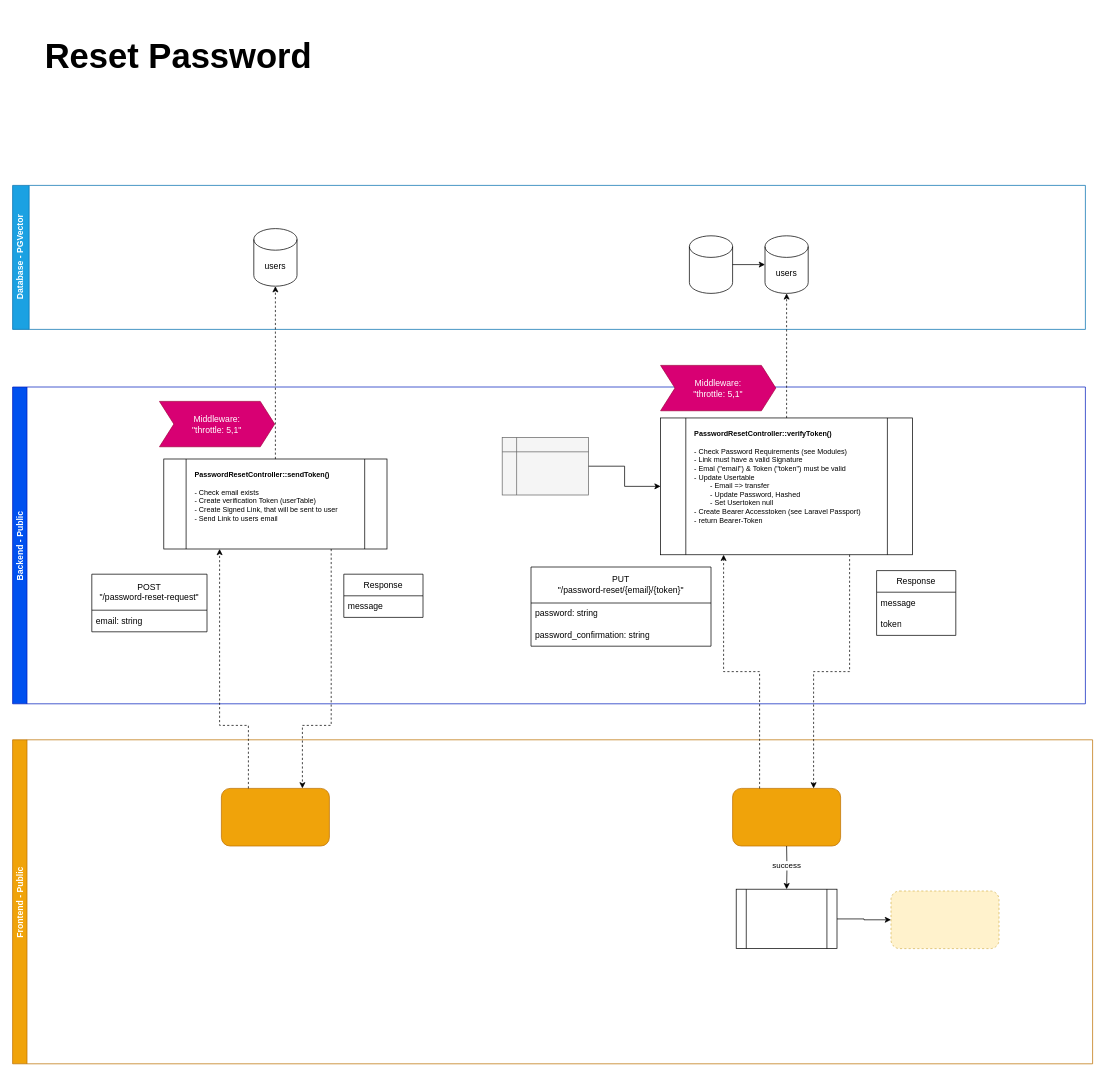
This 1105x1076 diagram has some shape labels left out. Each missing label, with the centre of its shape:
Modules: - Password: (545,466)
OATUH: (711,264)
PasswortReset: (786,817)
ResetPasswordRequest: (275,817)
Set Bearer in Local Storage (Client) & Set User Session Headers: (786,918)
UserAuth (see Login): (944,919)
